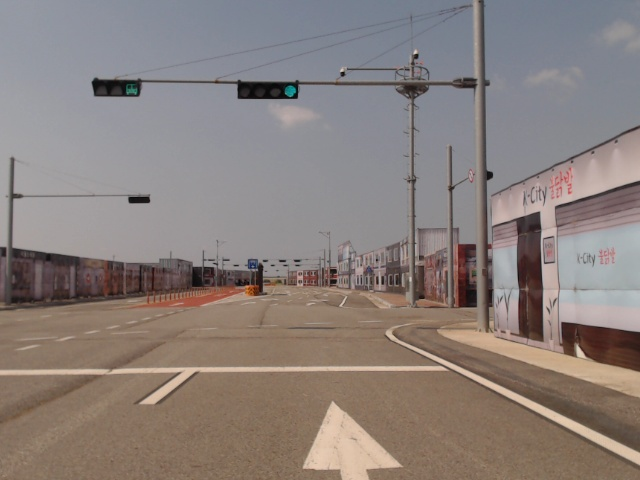straight_green_4: (237, 83, 298, 99)
